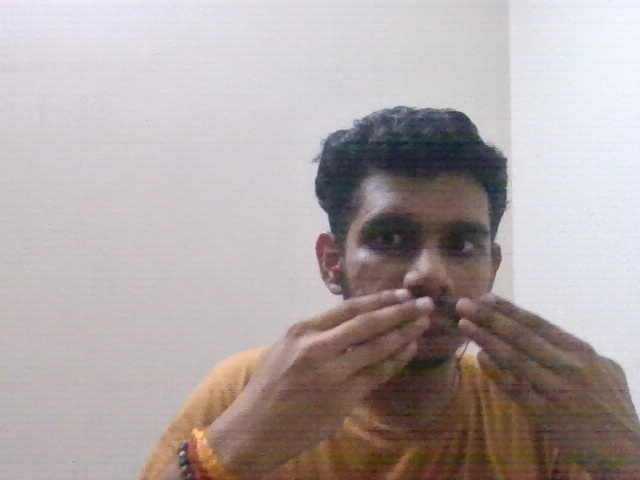thanks: (231, 283, 626, 438)
